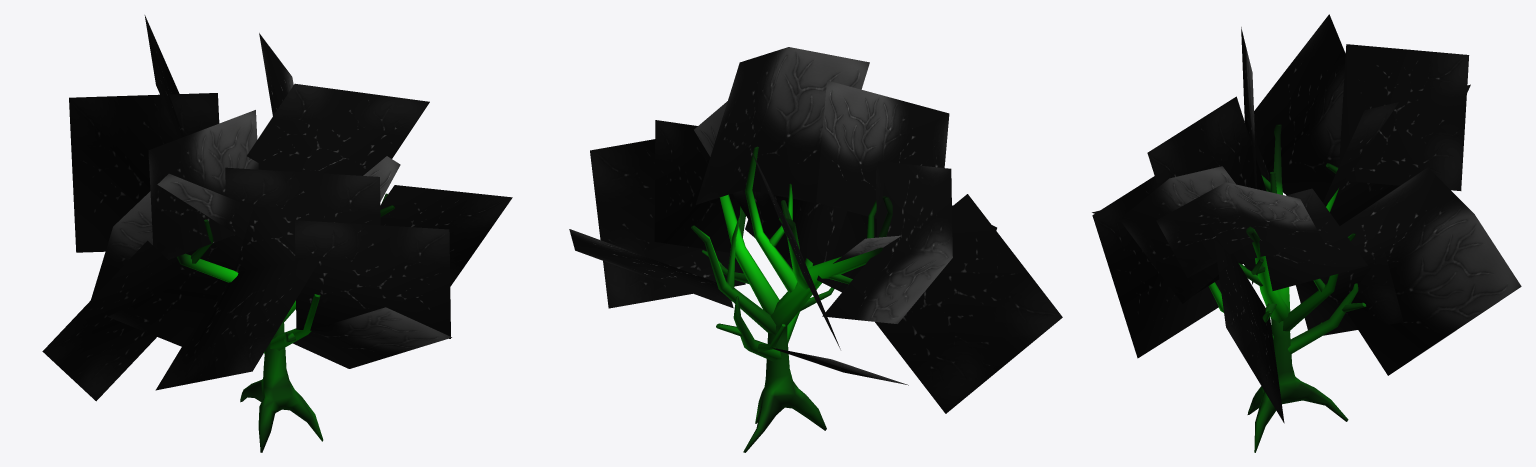
File: env_burntforest_bush01.fbx
The picture shows the model from 3 angles, left to right: view 1: azimuth 30°, elevation 25°; view 2: azimuth 150°, elevation 25°; view 3: azimuth 270°, elevation 25°; orthographic projection. The views are drawn at different scales.
Visible parts, largest first — view 1: env_burntforest_bush01; view 2: env_burntforest_bush01; view 3: env_burntforest_bush01.
Part boxes in pixels (bbox=[...]): env_burntforest_bush01: bbox=[42, 15, 512, 452]; env_burntforest_bush01: bbox=[569, 47, 1062, 452]; env_burntforest_bush01: bbox=[1092, 14, 1521, 452].
Size of the model in its own units: 29.55 by 23.77 by 23.82.
